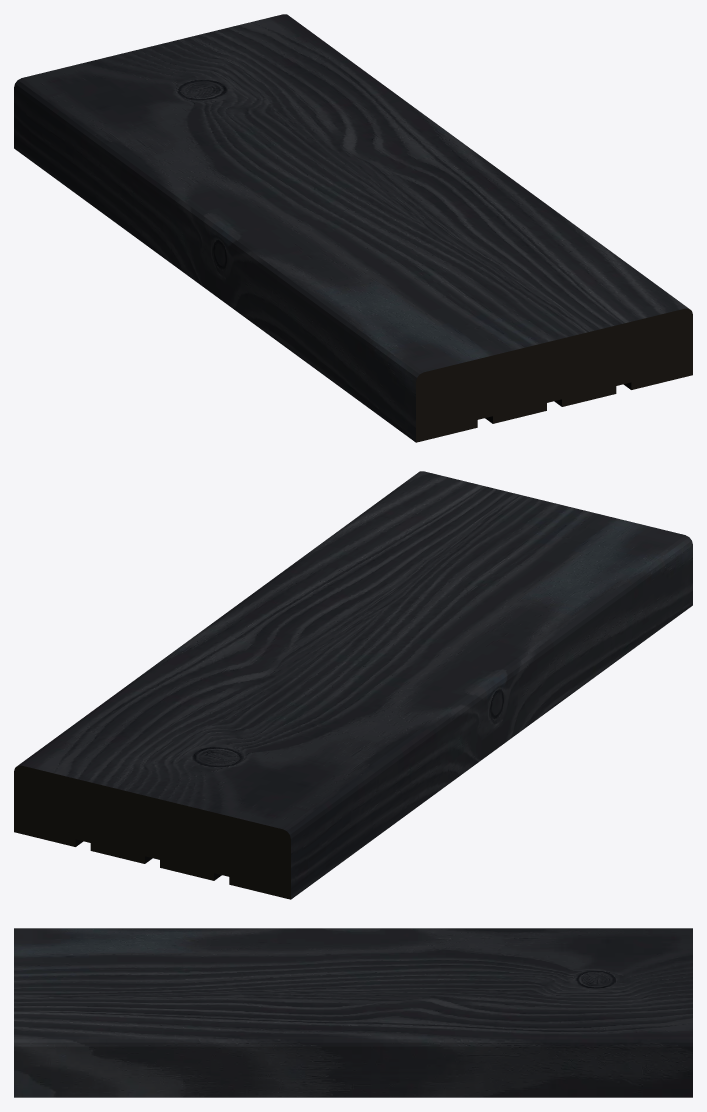
File: larch-terrace-black.glb
3 views of the same model, one above another, from view 1: azimuth 30°, elevation 25°; view 2: azimuth 150°, elevation 25°; view 3: azimuth 270°, elevation 25° (orthographic). The views are drawn at different scales.
Visible parts, largest first — view 1: Staciakampis; view 2: Staciakampis; view 3: Staciakampis.
Boxes of the visible parts, bbox=[...] form: Staciakampis: bbox=[14, 14, 692, 442]; Staciakampis: bbox=[14, 471, 692, 899]; Staciakampis: bbox=[14, 928, 692, 1097].
Bounding box in the file's own units: 0.0733 × 0.0173 × 0.1843.
Materials: 3 (1 with a texture image).
